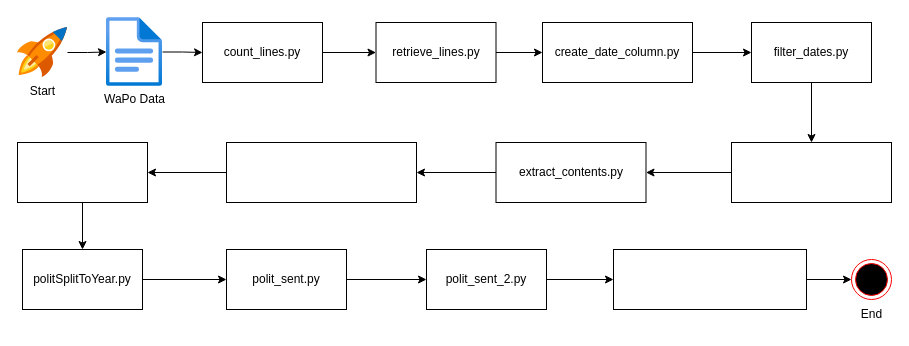
Image size: 909x346. Some labels were removed from this diagram. The centre of each missing label's shape, as x and y in pixels:
"clean_and_transform_to_csv.py" goes at (x=321, y=172).
"count_lines_of_chosen_years.py" goes at (x=709, y=279).
"filter_political_articles.py" goes at (x=811, y=172).
"vader_analysis.py" goes at (x=82, y=172).
